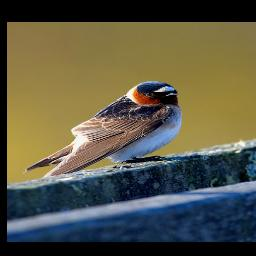Swallow: (23, 81, 184, 182)
